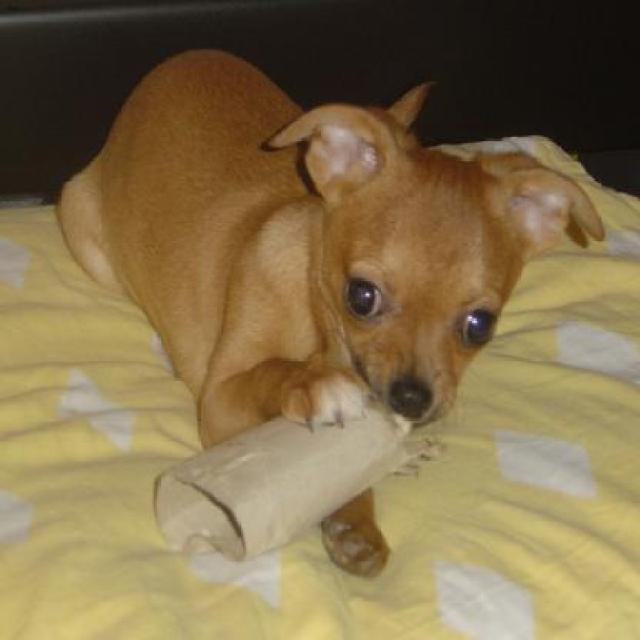Dog: (58, 44, 610, 578)
